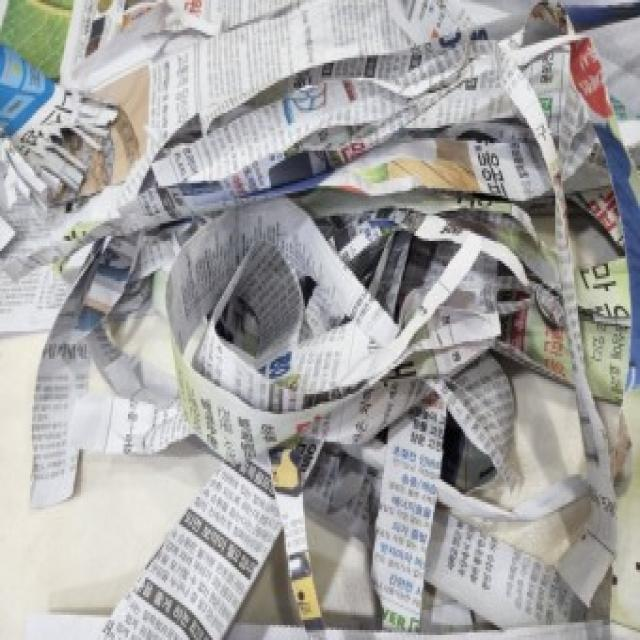Newspaper: (150, 31, 560, 518)
